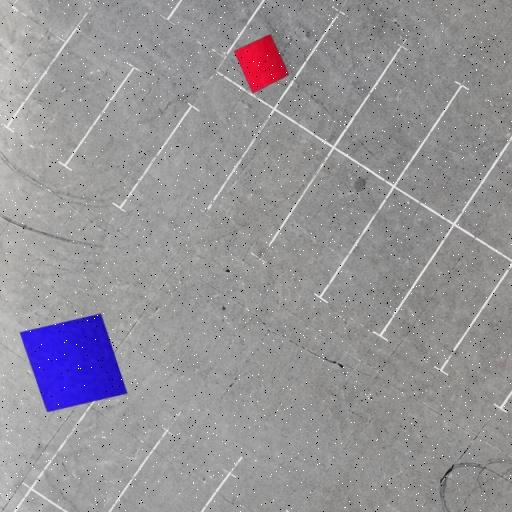BLUE_SQUARE: (18, 313, 128, 413)
RED_SQUARE: (234, 34, 290, 94)
